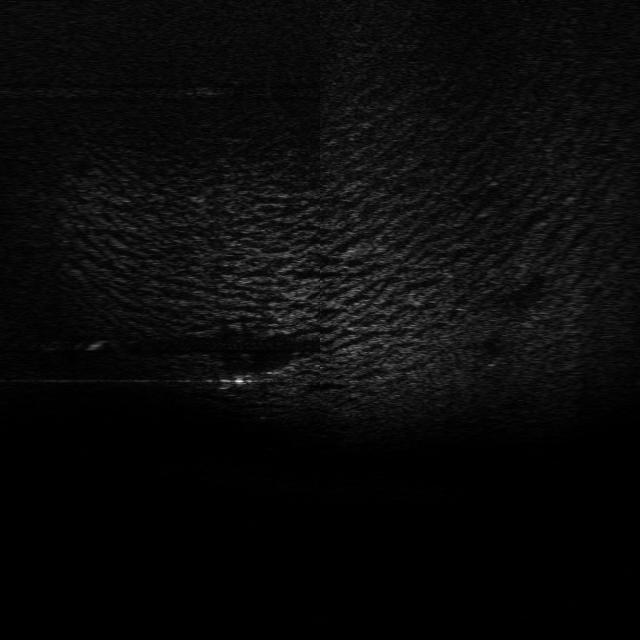plane: (211, 364, 287, 392)
